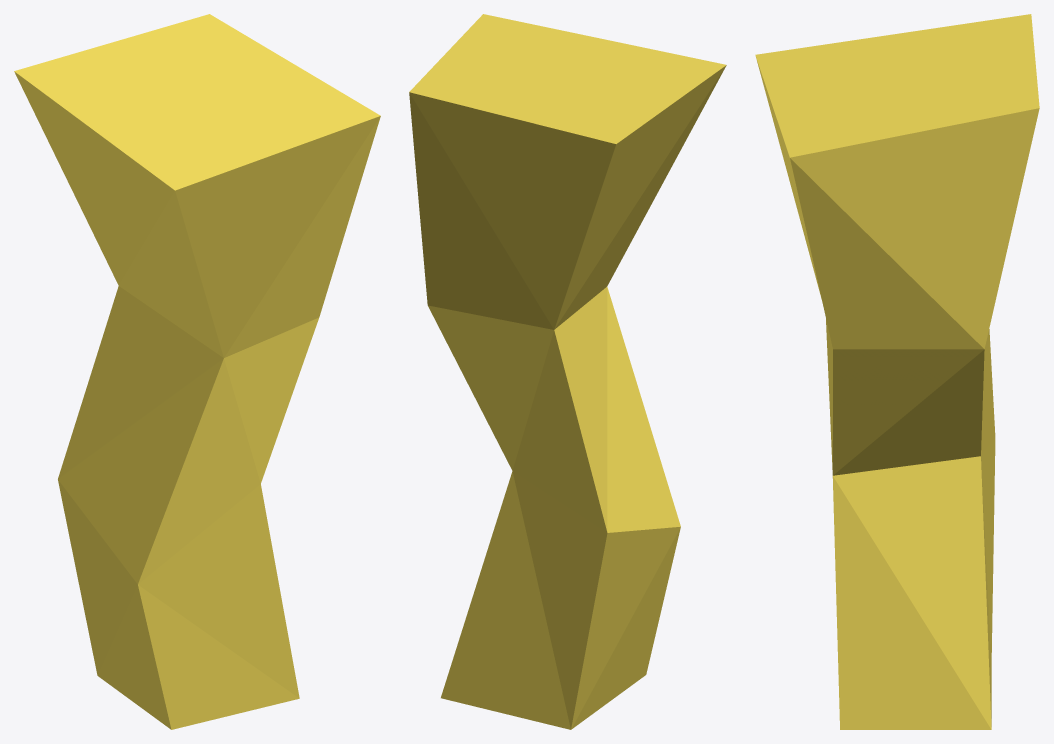
The model's file is stem2.obj.
The picture shows the model from 3 angles, left to right: view 1: azimuth 30°, elevation 25°; view 2: azimuth 150°, elevation 25°; view 3: azimuth 270°, elevation 25°; orthographic projection. The views are drawn at different scales.
Parts seen in each view (by area): view 1: Stem3; view 2: Stem3; view 3: Stem3.
Boxes of the visible parts, box(x1,y1,x2,y2) form: Stem3: box(14, 14, 380, 729); Stem3: box(409, 14, 726, 729); Stem3: box(755, 14, 1039, 729).
Size of the model in its own units: 0.097 by 0.2276 by 0.0938.
